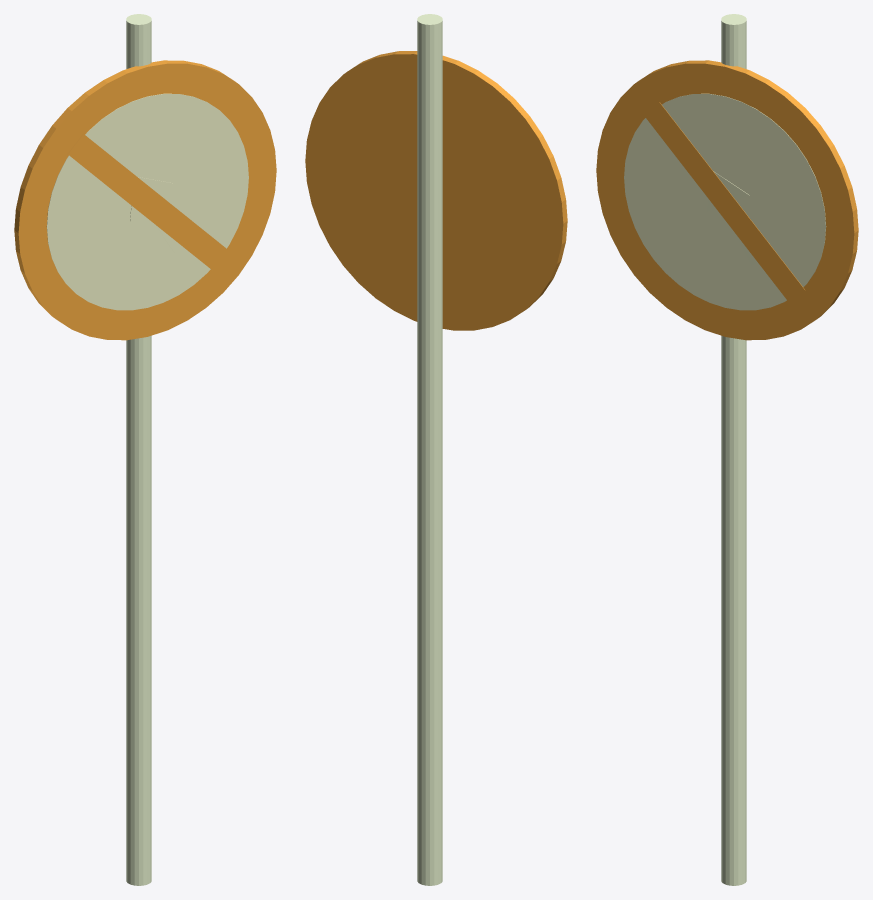
The model's file is sign_turn_restriction_left.glb.
The picture shows the model from 3 angles, left to right: view 1: azimuth 30°, elevation 25°; view 2: azimuth 150°, elevation 25°; view 3: azimuth 330°, elevation 25°; orthographic projection.
Parts seen in each view (by area): view 1: layer_1_00, plate_base_00, pole, layer_3_00; view 2: plate_base_00, pole; view 3: layer_1_00, plate_base_00, pole, layer_3_00.
Part boxes in pixels (x1=…): layer_1_00: x1=46, y1=93, x2=248, y2=310; plate_base_00: x1=14, y1=60, x2=276, y2=340; pole: x1=126, y1=14, x2=151, y2=885; layer_3_00: x1=68, y1=134, x2=228, y2=270; plate_base_00: x1=305, y1=51, x2=567, y2=330; pole: x1=417, y1=14, x2=442, y2=885; layer_1_00: x1=624, y1=93, x2=826, y2=310; plate_base_00: x1=596, y1=60, x2=858, y2=340; pole: x1=721, y1=14, x2=746, y2=885; layer_3_00: x1=644, y1=102, x2=804, y2=302.
Size of the model in its own units: 0.69 by 2.2 by 0.074.
